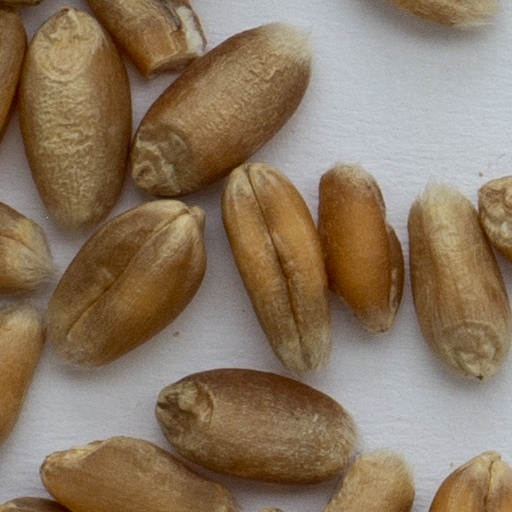Wheat-grain-damaged-poly: (84, 0, 204, 82)
